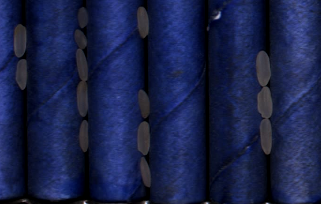broken_grain: (256, 87, 275, 119), (75, 7, 92, 28), (72, 29, 87, 48)
complete_grain: (258, 119, 275, 159), (255, 50, 273, 87), (12, 22, 29, 58), (136, 120, 152, 156), (74, 47, 90, 82), (135, 6, 151, 39), (77, 118, 91, 155), (139, 156, 153, 189), (15, 59, 28, 92)
yellow_grain: (75, 80, 90, 118), (136, 89, 154, 119)
